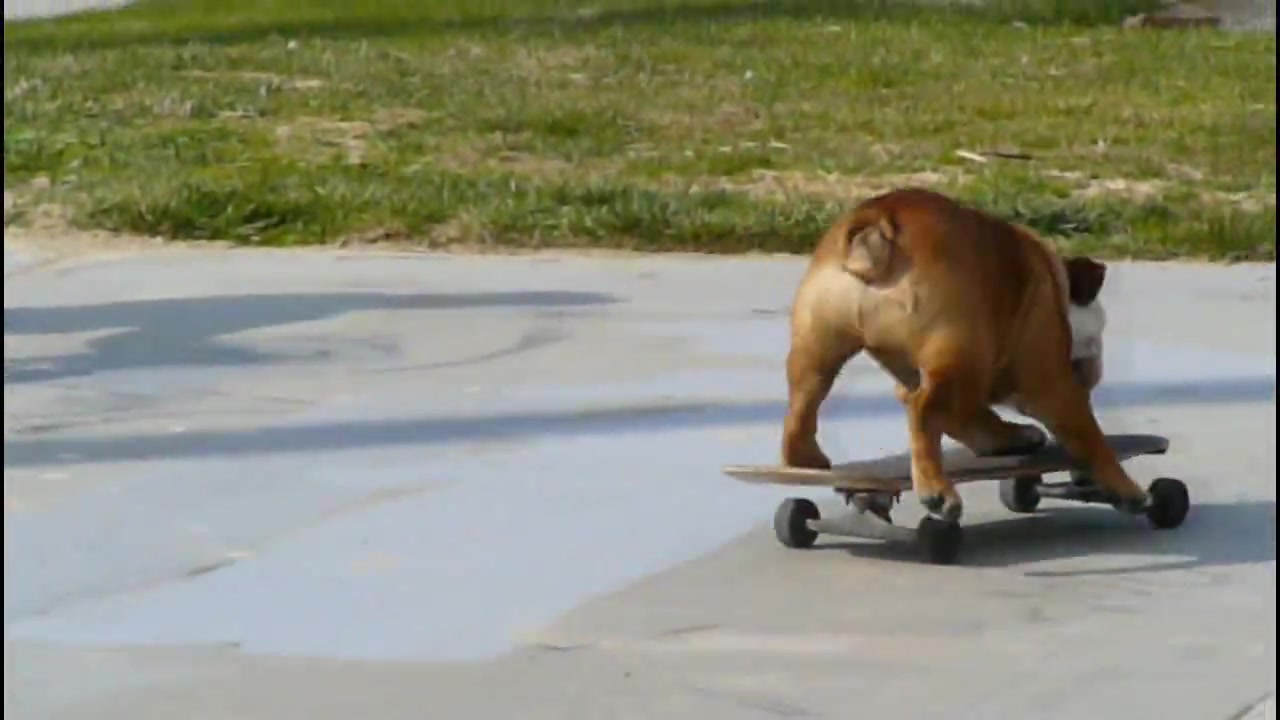dog: (769, 186, 1149, 516)
